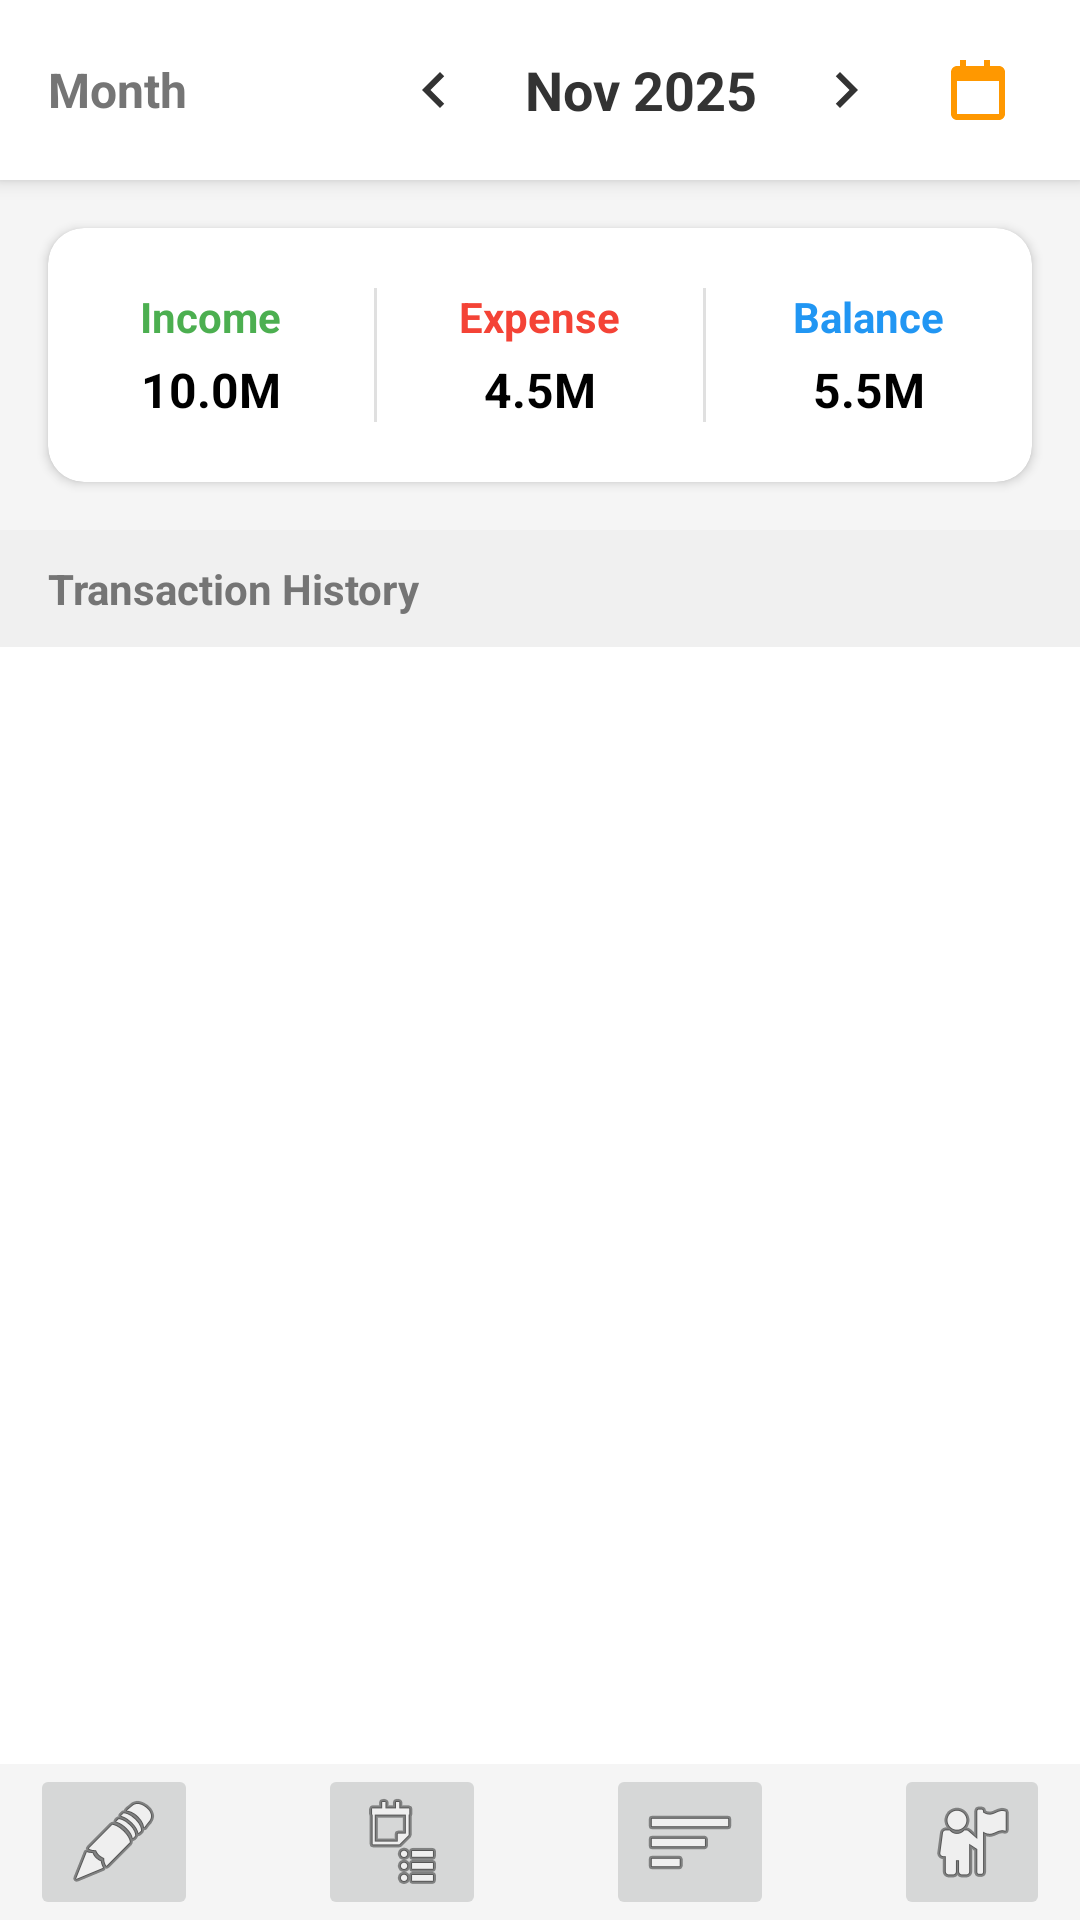

Icon click points for this 1080 x 1920 phone screenshot, format point (x, y):
agenda: point (402, 1842)
edit: point (114, 1842)
myplaces: point (972, 1842)
Next Month: point (847, 90)
Open Calendar: point (978, 90)
Previous Month: point (433, 90)
sort by size: point (690, 1842)
